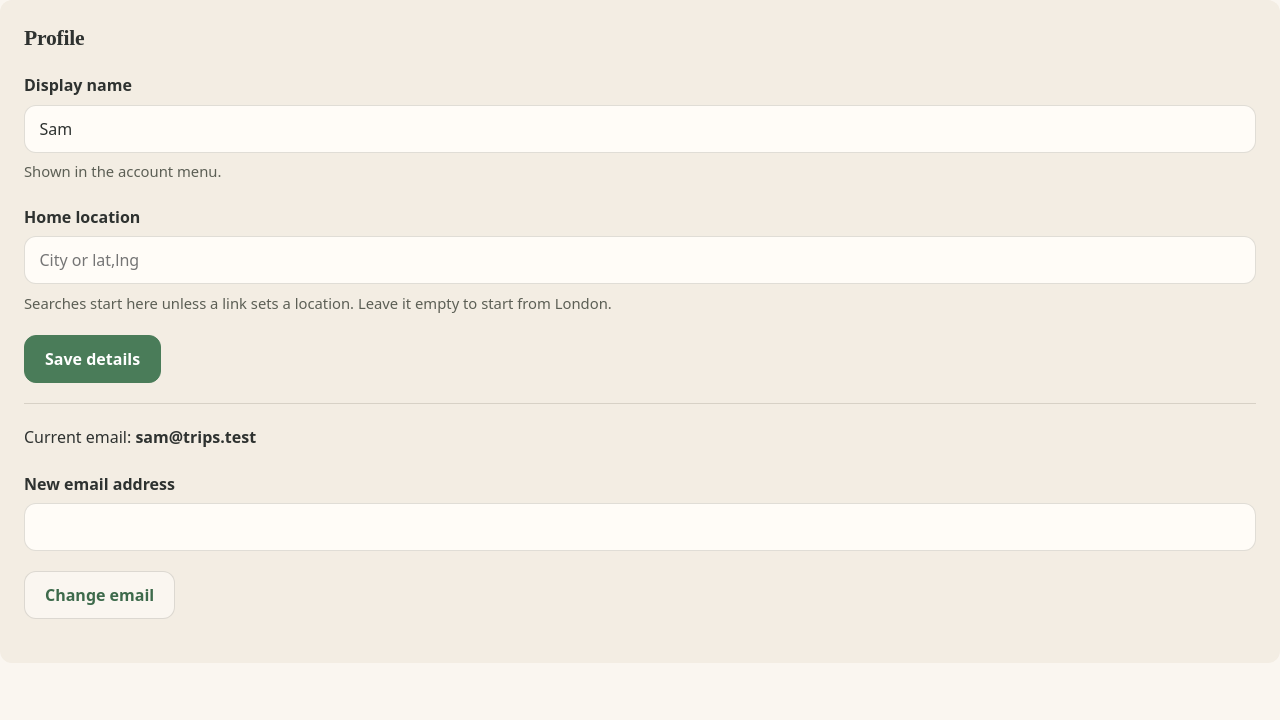
Test case: ProfileSection › explains when saving fails
The image size is (1280, 720).
Click the button "Save details" at (93, 359), box [24,335,161,383]
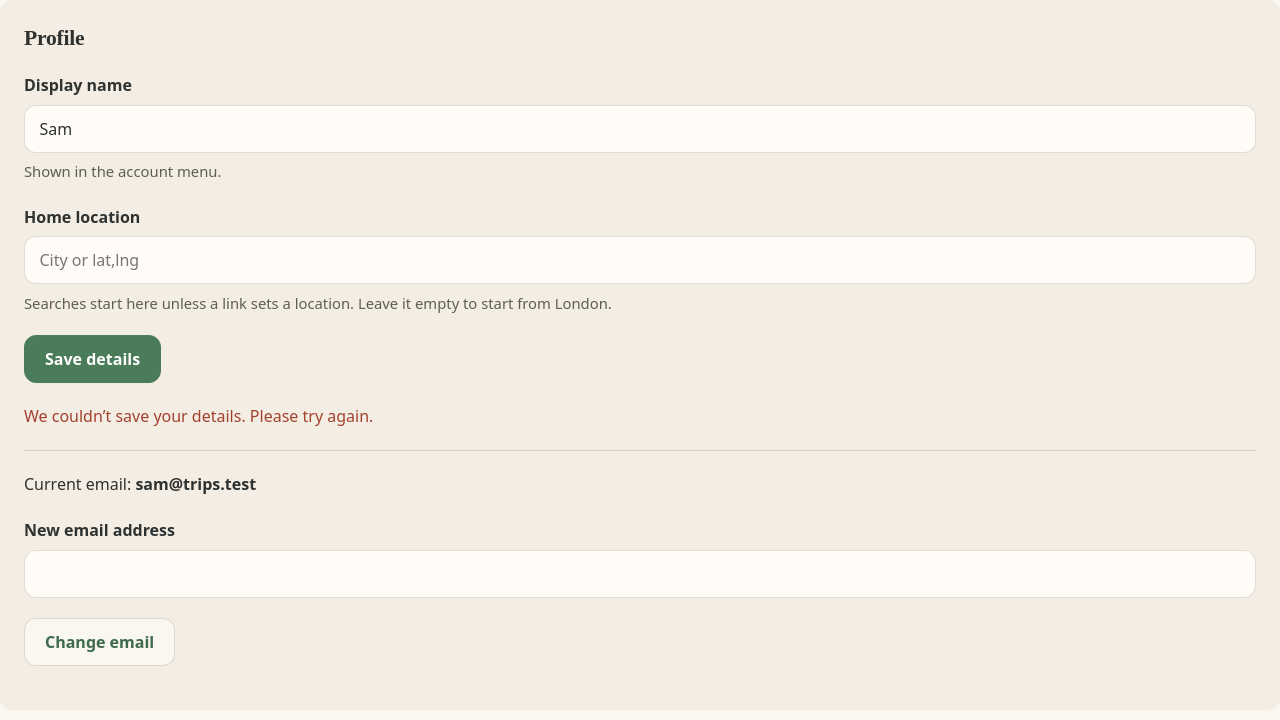
Expected: the message shows "couldn’t save your details", [24,405,373,427]
